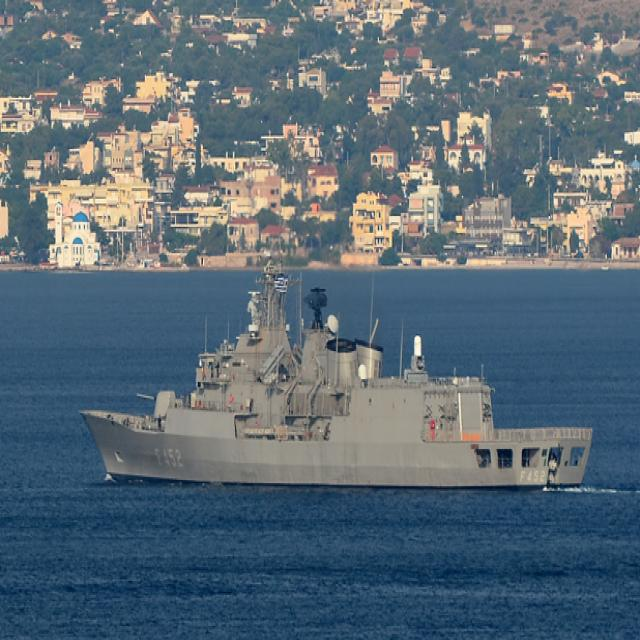Fragata: (77, 264, 597, 501)
